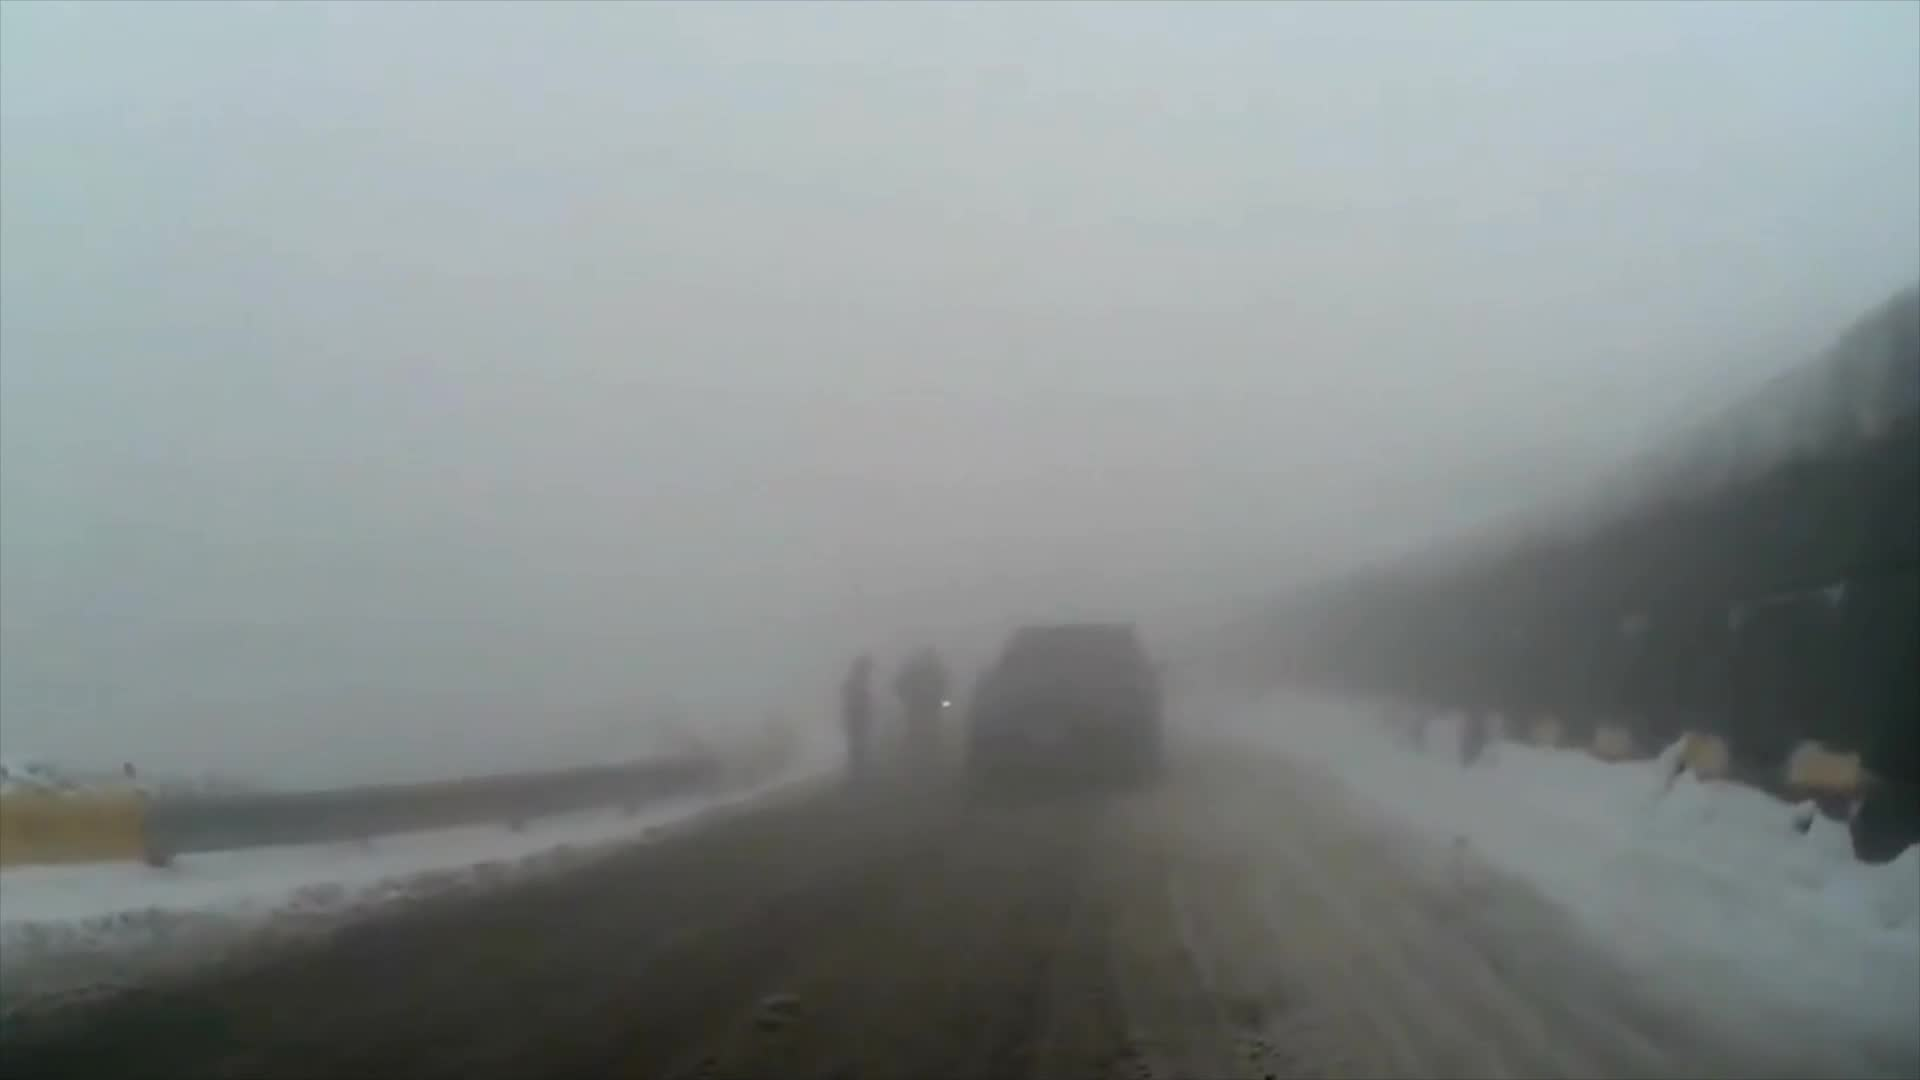pedestrian: (899, 645, 953, 773), (838, 658, 880, 800)
vehicle: (970, 620, 1167, 799)
